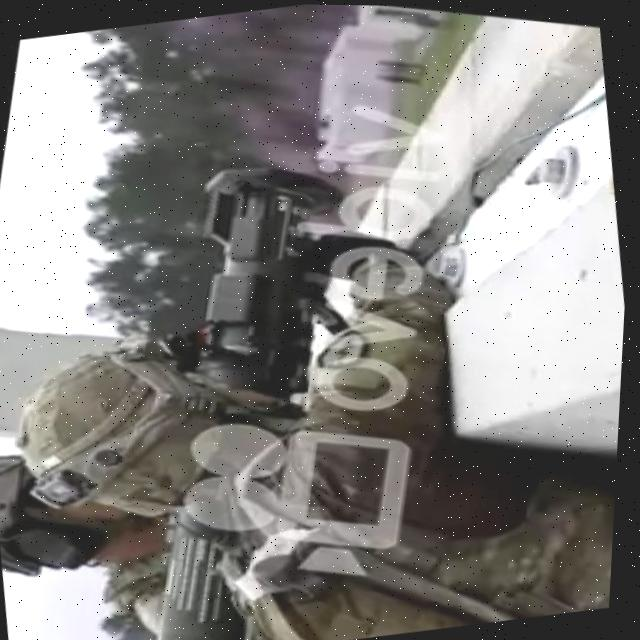rocket: (81, 142, 403, 640)
